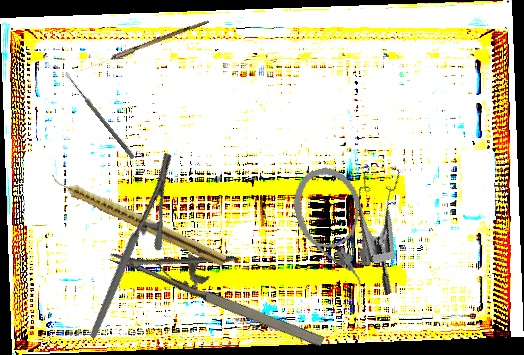Cannula: (285, 160, 383, 299)
Handpiece: (47, 171, 229, 267)
Needle Holder: (40, 151, 220, 339), (108, 210, 340, 353)
Speculum: (335, 154, 442, 296)
Surgical Spoon: (77, 17, 210, 75), (63, 71, 136, 160)
